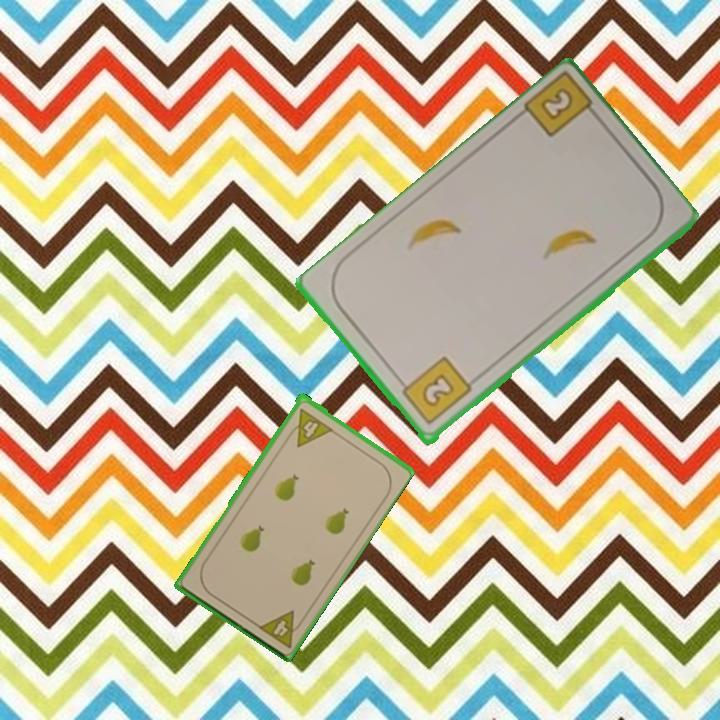2b: (395, 353, 475, 428), (519, 71, 604, 141)
4p: (254, 606, 308, 651), (283, 404, 334, 449)
